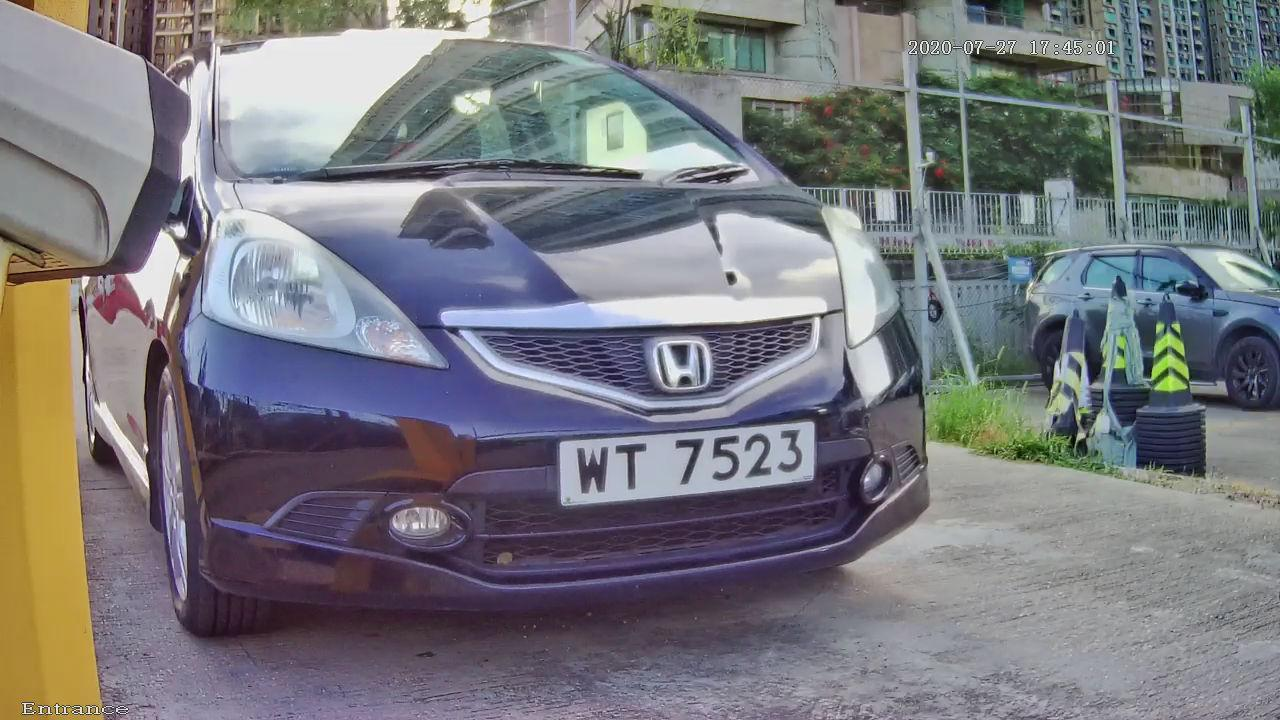privatecar: (46, 26, 1018, 647)
